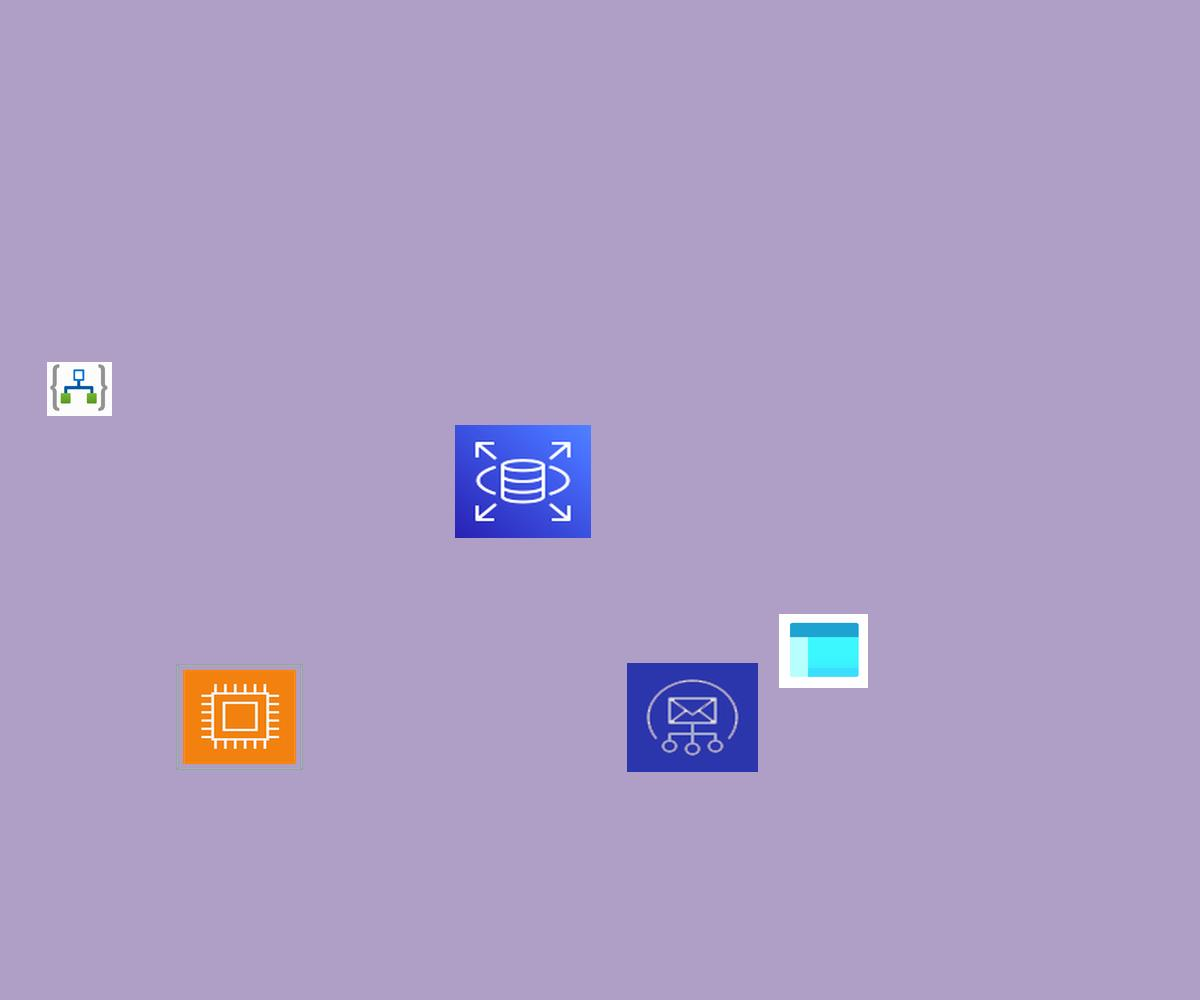AWS-Category_Compute: (176, 664, 303, 770)
AWS-RDS: (455, 425, 591, 538)
AWS-Simple-Email-Service: (627, 663, 758, 772)
Azure_integration-204-Logic-Apps: (47, 362, 112, 416)
Azure_management-portal: (779, 614, 868, 688)
